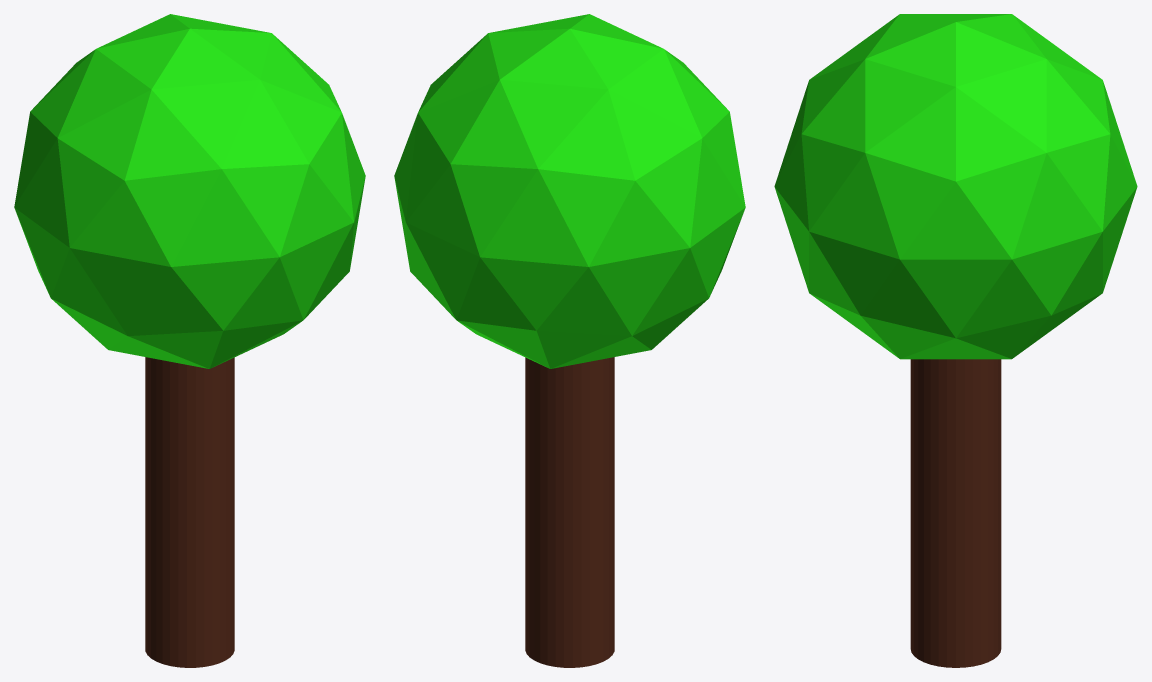
The model's file is tree.glb.
3 views of the same model, side by side, from view 1: azimuth 30°, elevation 25°; view 2: azimuth 150°, elevation 25°; view 3: azimuth 270°, elevation 25° (orthographic).
Visible parts, largest first — view 1: Icosphere, Cylinder; view 2: Icosphere, Cylinder; view 3: Icosphere, Cylinder.
Part boxes in pixels (left/top/right/bottom): Icosphere: left=14, top=14, right=365, bottom=368; Cylinder: left=145, top=357, right=234, bottom=667; Icosphere: left=394, top=14, right=745, bottom=368; Cylinder: left=525, top=357, right=614, bottom=667; Icosphere: left=774, top=14, right=1137, bottom=359; Cylinder: left=910, top=359, right=1001, bottom=667.
Size of the model in its own units: 19.02 by 38.09 by 20.
